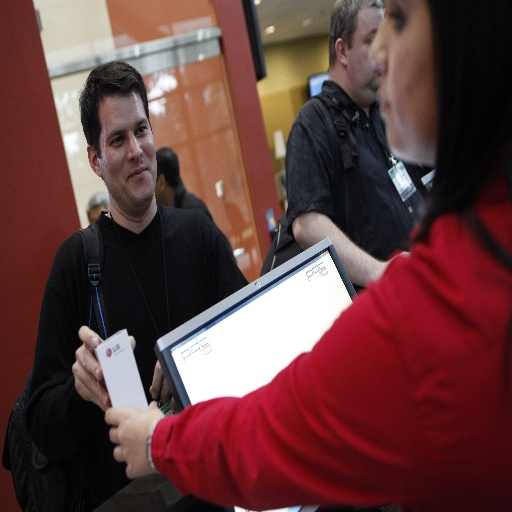hand: (90, 400, 168, 477), (70, 325, 135, 414), (147, 363, 179, 412)
